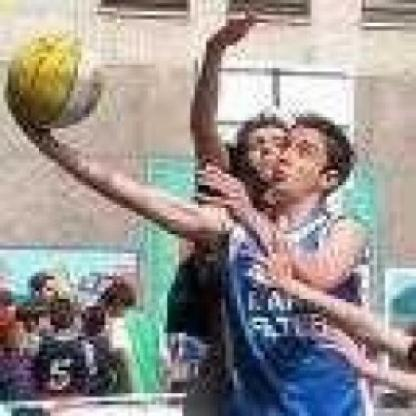basketball: (5, 29, 106, 130)
